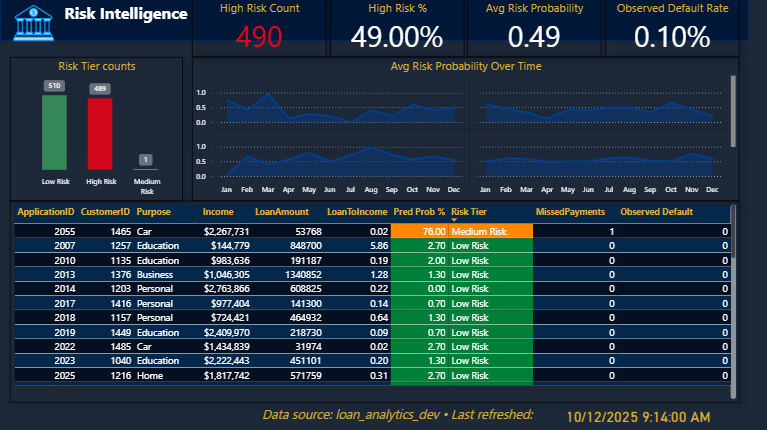

The page's visual inventory and layout, read from the dashboard file:
{"tool":"powerbi","page":{"name":"Risk Intelligence","canvas":[1280,720],"ordinal":1},"visuals":[{"type":"shape","box":[0,0,1248,70],"z":0},{"type":"textbox","box":[432,672,480,48],"z":1000},{"type":"card","fields":{"Values":["Measure.LastRefresh"]},"box":[912,672,304,48],"z":2000},{"type":"card","title":"High Risk Count","fields":{"Values":["LoanPredictions.High Risk Count"]},"box":[320,0,224,96],"z":3000},{"type":"card","title":"High Risk %","fields":{"Values":["LoanPredictions.High Risk %"]},"box":[549.3,0,224,96],"z":4000},{"type":"card","title":"Avg Risk Probability","fields":{"Values":["LoanPredictions.Avg Risk Probability"]},"box":[778.7,0,224,96],"z":5000},{"type":"card","title":"Observed Default Rate","fields":{"Values":["LoanPredictions.Observed Default Rate"]},"box":[1008,0,224,96],"z":6000},{"type":"clusteredColumnChart","title":"Risk Tier counts","fields":{"Category":["LoanPredictions.Risk Tier"],"Y":["CountNonNull(LoanPredictions.ApplicationID)"]},"box":[16,96,288,240],"z":7000},{"type":"tableEx","fields":{"Values":["vw_CleanLoans.ApplicationID","vw_CleanLoans.CustomerID","vw_CleanLoans.Purpose","vw_CleanLoans.Income","vw_CleanLoans.LoanAmount","vw_CleanLoans.LoanToIncome","LoanPredictions.Pred Prob %","LoanPredictions.Risk Tier","vw_CleanLoans.MissedPaymentsCount","vw_CleanLoans.Observed Default"]},"box":[16,336,1216,336],"z":8000},{"type":"areaChart","title":"Avg Risk Probability Over Time","fields":{"Category":["vw_CleanLoans.MonthLabel"],"Y":["Measure.Avg Risk Prob (Month)"],"Rows":["vw_CleanLoans.Purpose"]},"box":[320,96,912,240],"z":9000},{"type":"textbox","box":[0,0,320,64],"z":10000},{"type":"image","box":[0,0,112,80],"z":11000}]}

Visuals, with their boxes in screenshot pixels (x1, y1, x2, y2), scaled from the page's 1280x720 canvas onto the 767x430 screenshot:
shape: [left=0, top=0, right=748, bottom=42]
textbox: [left=259, top=401, right=546, bottom=429]
card - Measure.LastRefresh: [left=546, top=401, right=729, bottom=429]
"High Risk Count" card: [left=192, top=0, right=326, bottom=57]
"High Risk %" card: [left=329, top=0, right=463, bottom=57]
"Avg Risk Probability" card: [left=467, top=0, right=601, bottom=57]
"Observed Default Rate" card: [left=604, top=0, right=738, bottom=57]
"Risk Tier counts" clusteredColumnChart: [left=10, top=57, right=182, bottom=201]
tableEx - vw_CleanLoans.ApplicationID x vw_CleanLoans.CustomerID: [left=10, top=201, right=738, bottom=401]
"Avg Risk Probability Over Time" areaChart: [left=192, top=57, right=738, bottom=201]
textbox: [left=0, top=0, right=192, bottom=38]
image: [left=0, top=0, right=67, bottom=48]
